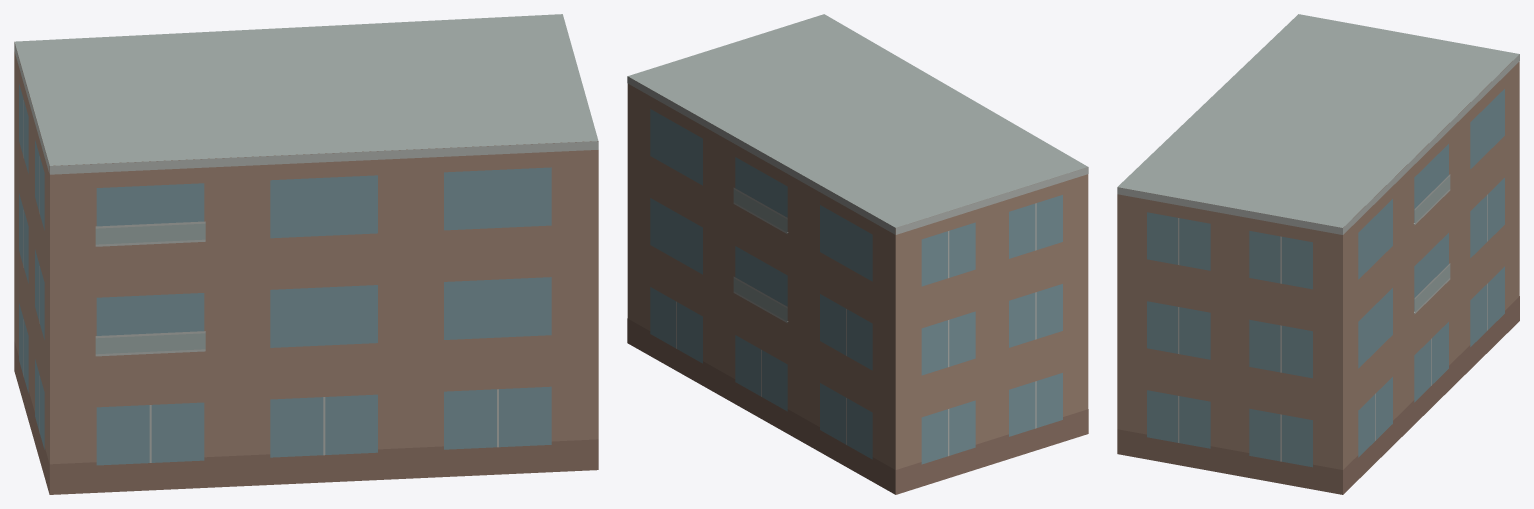
File: survey-upis-33029621.glb
3 renders of one model, left to right at view 1: azimuth 30°, elevation 25°; view 2: azimuth 150°, elevation 25°; view 3: azimuth 270°, elevation 25°, orthographic. The views are drawn at different scales.
Visible parts, largest first — view 1: survey-upis-33029621.tmp; view 2: survey-upis-33029621.tmp; view 3: survey-upis-33029621.tmp.
Boxes of the visible parts, x1,y1,x2,y2 form: survey-upis-33029621.tmp: (14,14,598,494); survey-upis-33029621.tmp: (627,14,1088,494); survey-upis-33029621.tmp: (1117,14,1519,494).
Bounding box in the file's own units: 15.74 × 9.15 × 12.52.
